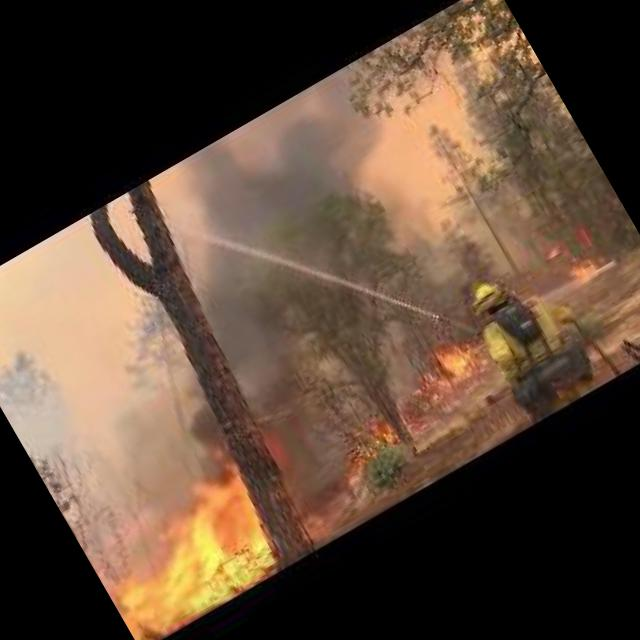fire: (79, 452, 294, 640), (308, 322, 510, 491), (557, 241, 609, 293), (544, 238, 562, 256)
smoke: (131, 72, 501, 466)
